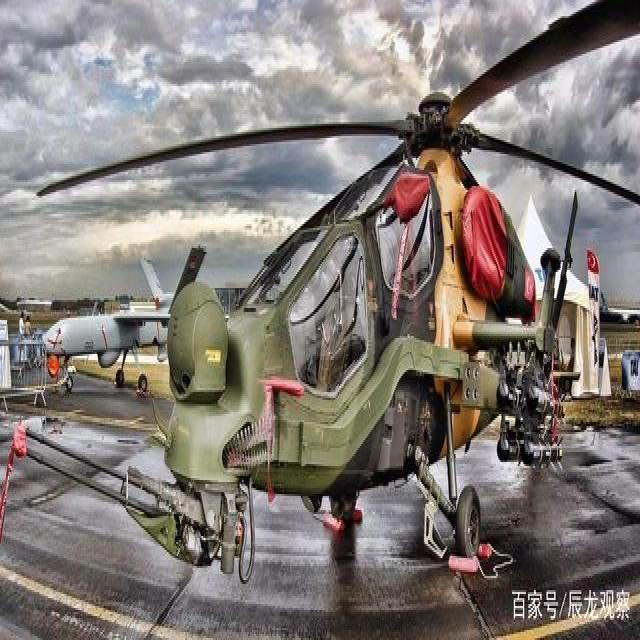MIL_HELO: (29, 0, 640, 596)
